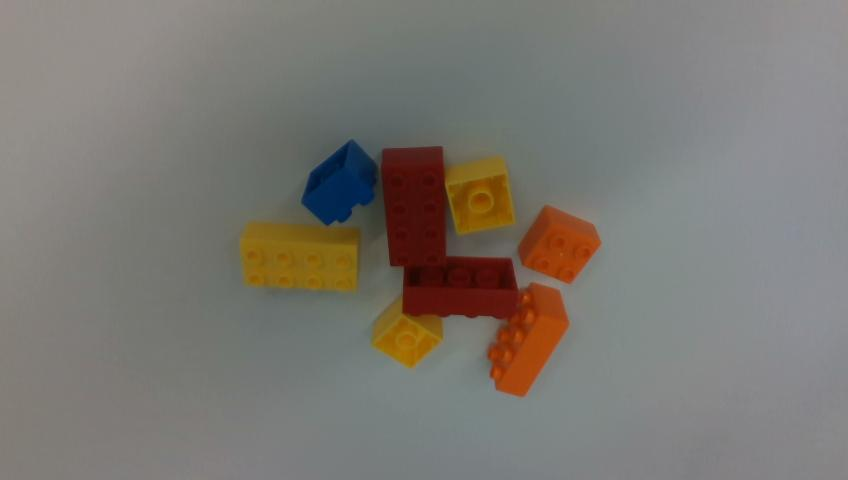2x2_blue: (302, 140, 376, 224)
2x2_orange: (518, 206, 600, 283)
2x2_yellow: (447, 157, 515, 234), (371, 298, 442, 367)
4x2_orange: (488, 283, 568, 396)
4x2_red: (382, 148, 446, 265), (404, 257, 517, 318)
4x2_yellow: (240, 222, 358, 289)
